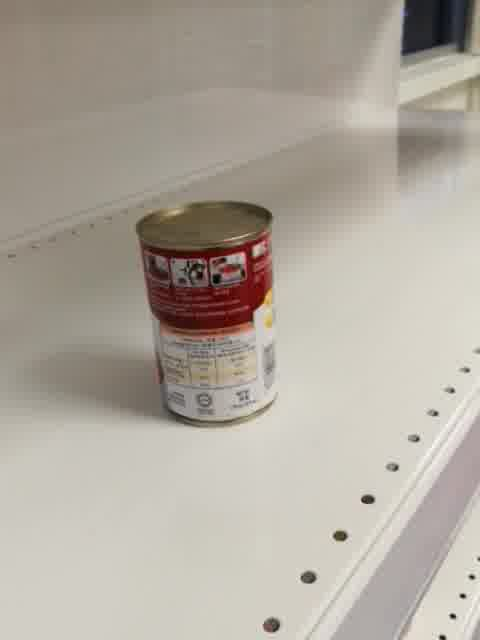tomatosoup: (132, 196, 278, 431)
